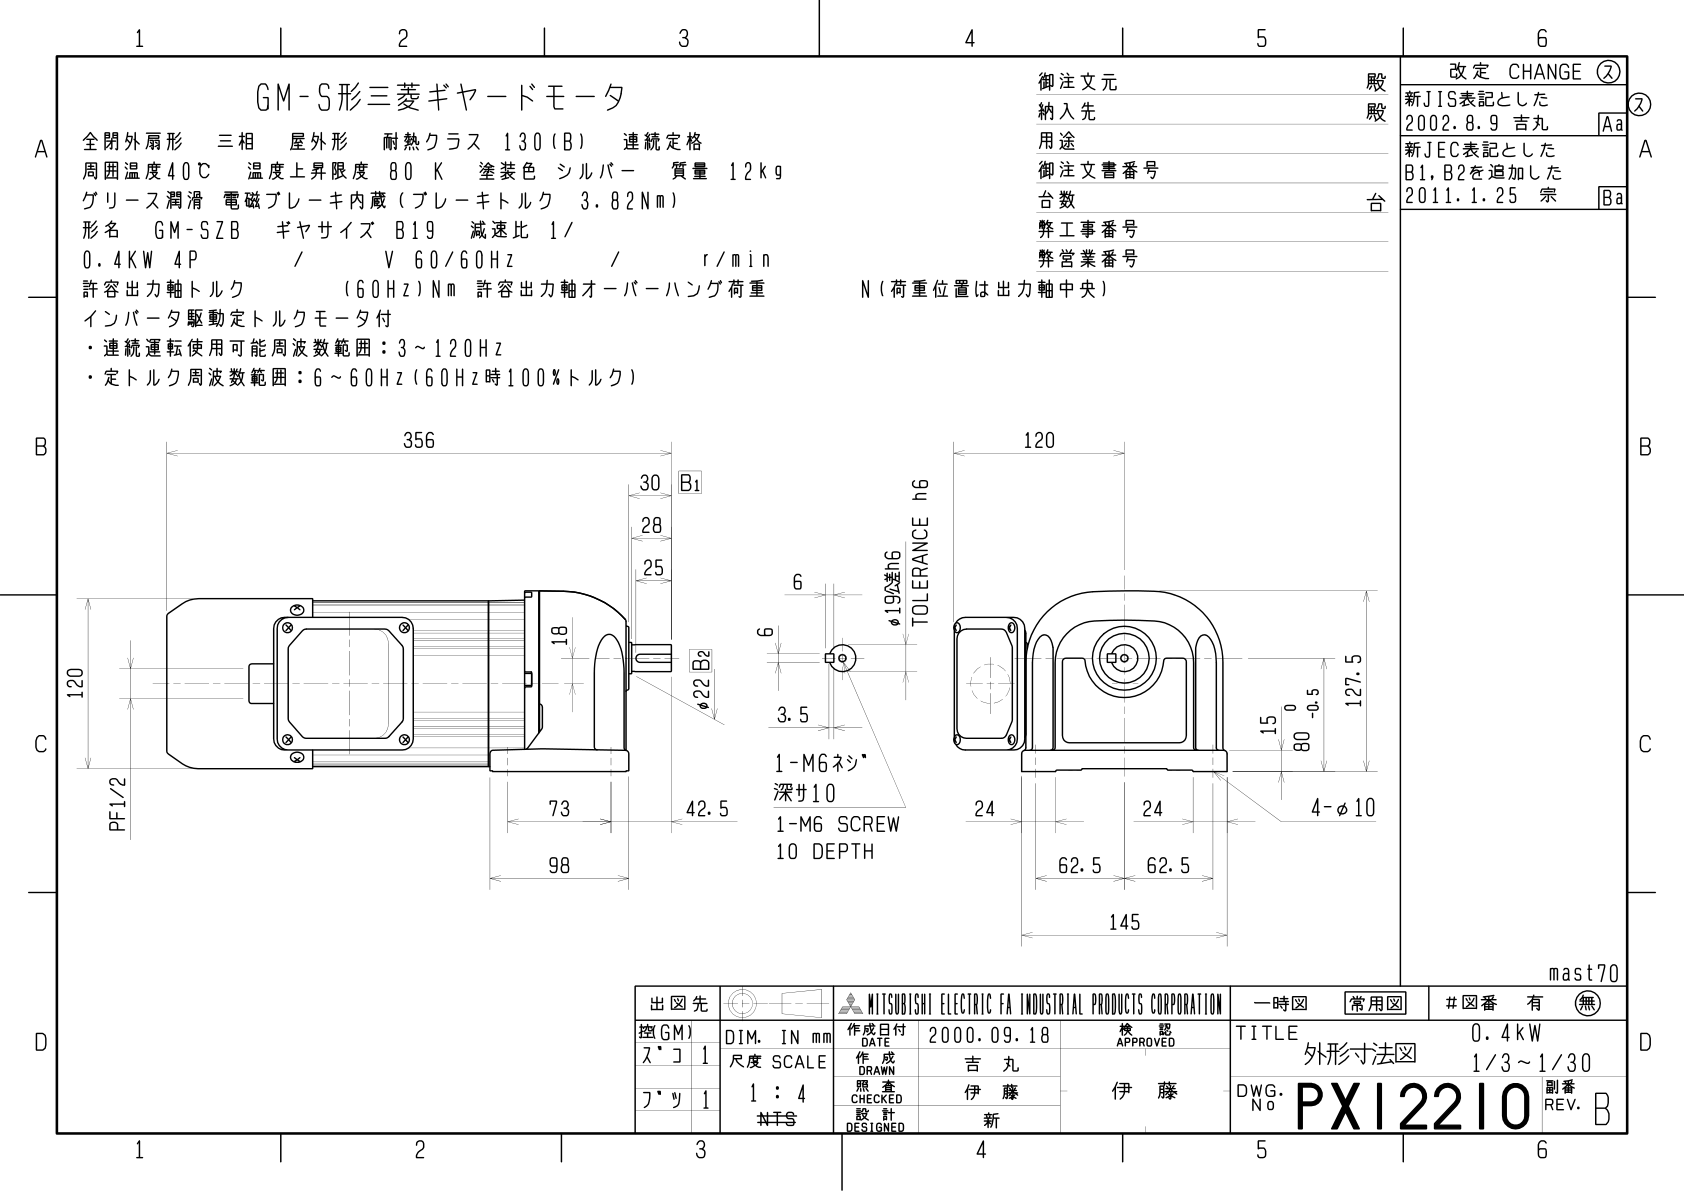GM_S_インバタ屋外＿三相_脚: (55, 382, 1392, 959)
